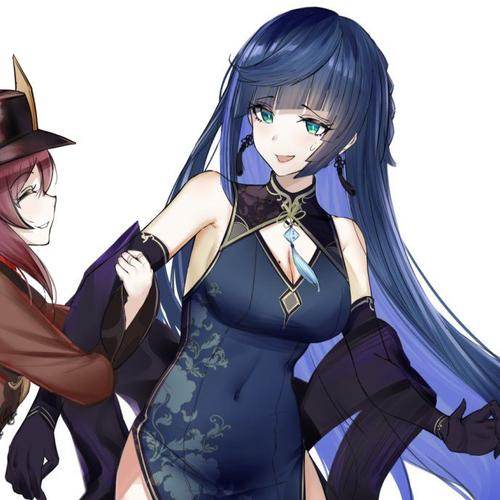夜兰: (6, 10, 499, 500)
